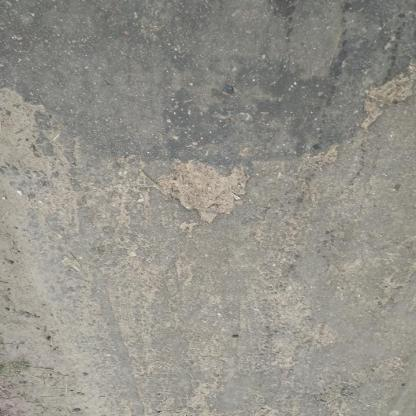pothole: (168, 162, 252, 229), (369, 77, 416, 105)
